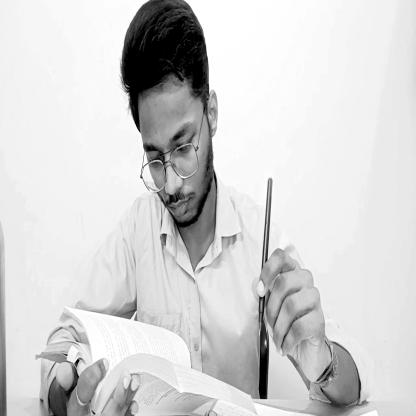Distracted: (121, 0, 216, 236)
